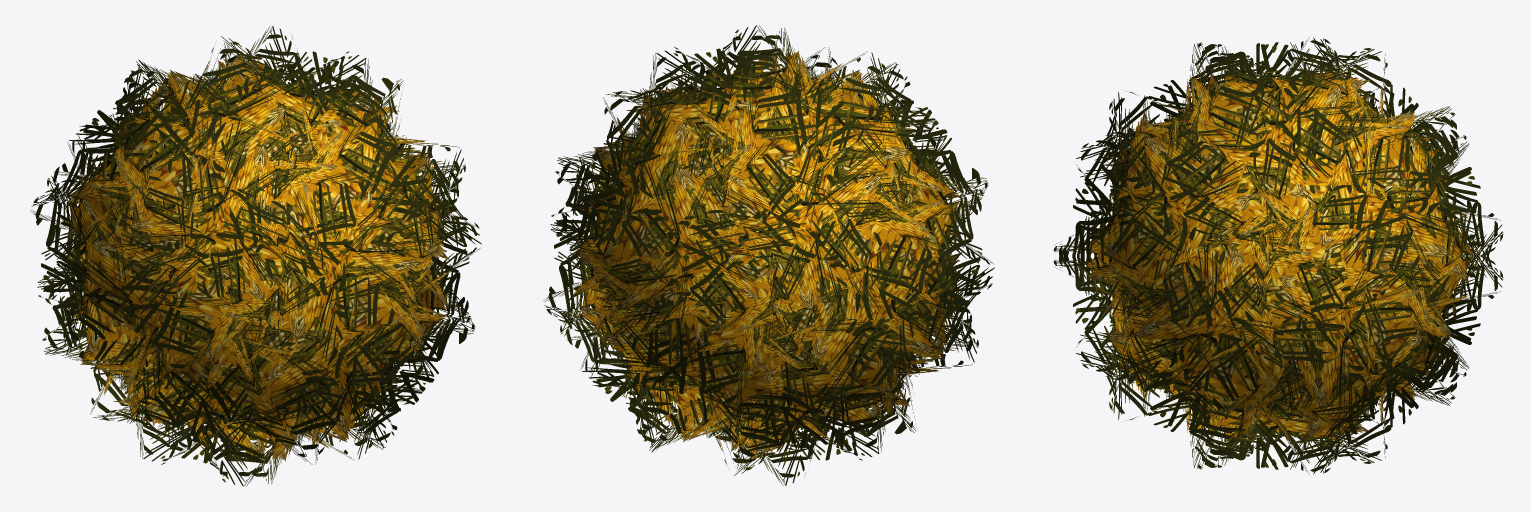
Rendered from 29GreatInvertedPentagonalHexecontahedron.gltf.
3 renders of one model, left to right at view 1: azimuth 30°, elevation 25°; view 2: azimuth 150°, elevation 25°; view 3: azimuth 270°, elevation 25°, orthographic.
Visible parts, largest first — view 1: 25GreatInvertedPentagonalHexecontahedron; view 2: 25GreatInvertedPentagonalHexecontahedron; view 3: 25GreatInvertedPentagonalHexecontahedron.
Boxes of the visible parts, x1=… form: 25GreatInvertedPentagonalHexecontahedron: x1=30, y1=26, x2=481, y2=486; 25GreatInvertedPentagonalHexecontahedron: x1=543, y1=25, x2=994, y2=485; 25GreatInvertedPentagonalHexecontahedron: x1=1053, y1=37, x2=1503, y2=474.
Bounding box in the file's own units: 1.13 × 1.13 × 1.13.
1 material, 1 textured.
